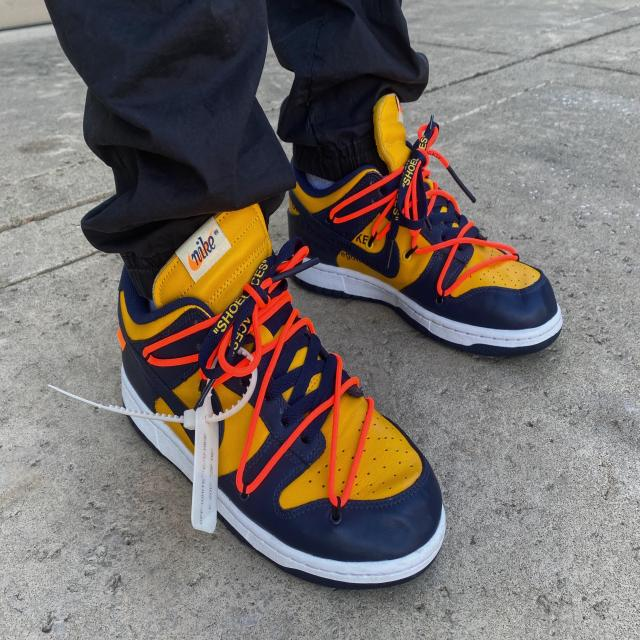shoe: (80, 207, 447, 588), (284, 78, 570, 352)
